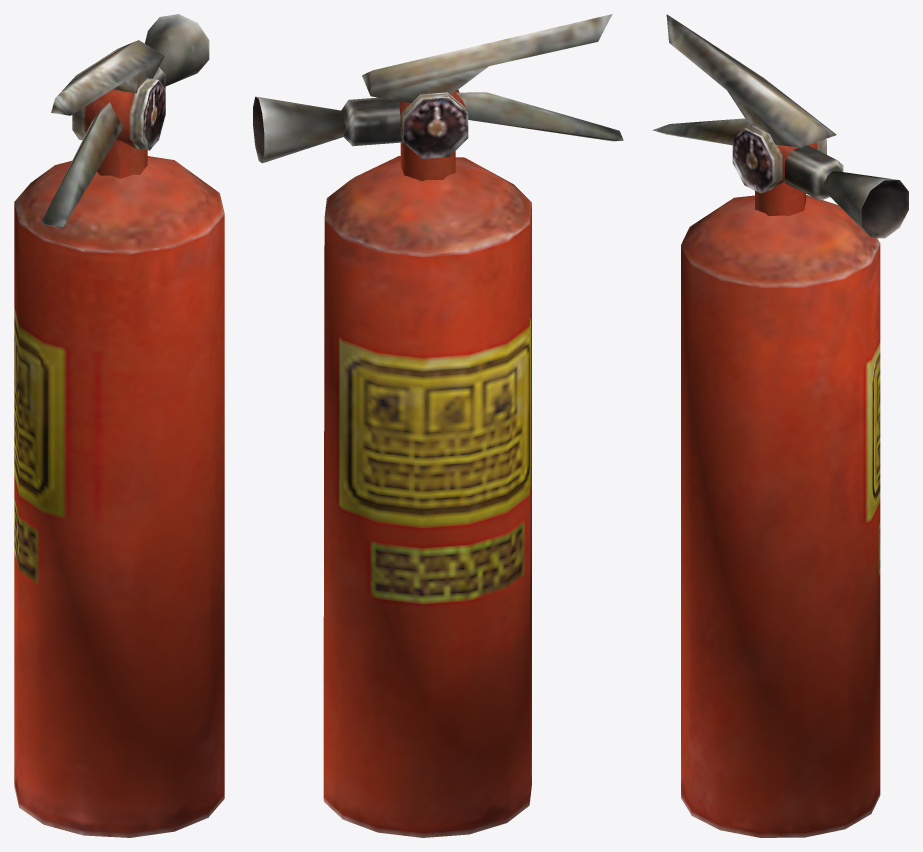
The model's file is extinguisher.obj.
3 views of the same model, side by side, from view 1: azimuth 30°, elevation 25°; view 2: azimuth 150°, elevation 25°; view 3: azimuth 270°, elevation 25° (orthographic). The views are drawn at different scales.
Parts seen in each view (by area): view 1: Fire_extinguisher; view 2: Fire_extinguisher; view 3: Fire_extinguisher.
Boxes of the visible parts, <box> form: Fire_extinguisher: <box>14,14,224,837</box>; Fire_extinguisher: <box>253,14,623,837</box>; Fire_extinguisher: <box>652,14,908,837</box>.
Bounding box in the file's own units: 25.98 × 70.56 × 22.65.
